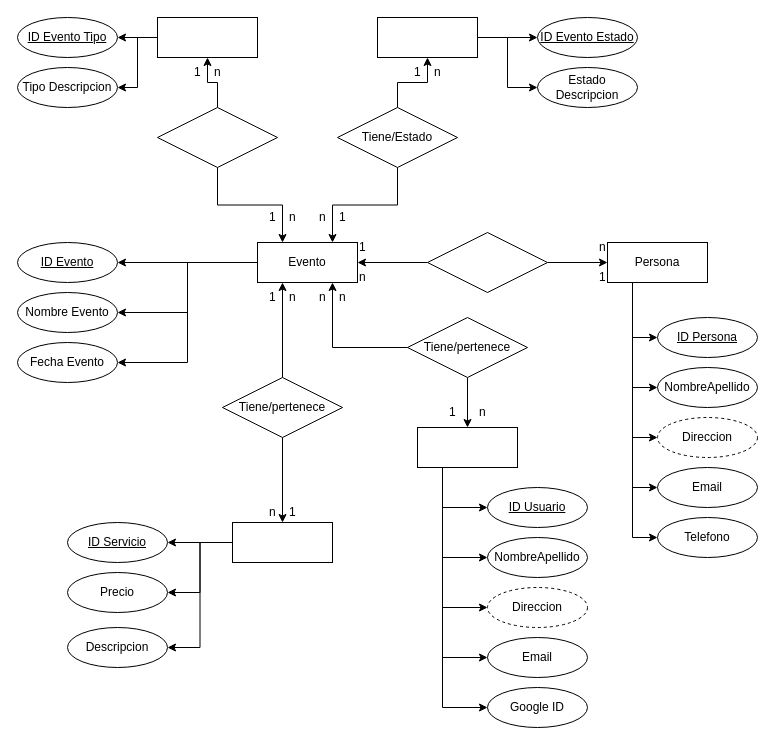
This 775x745 diagram has some shape labels left out. The centre of each missing label's shape, as x and y in pixels:
"EventoEstado" goes at (427,37).
"EventoTipo" goes at (207,37).
"Servicio" goes at (282,542).
"Tiene/Se agasaja" goes at (487,262).
"Tiene/Tipo" goes at (217,137).
"Usuario" goes at (467,447).
